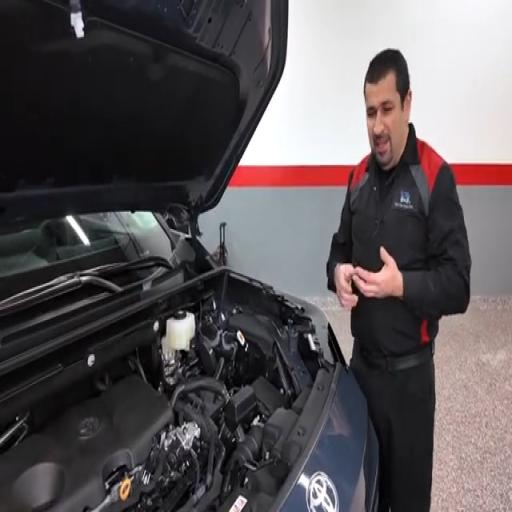bumper: (282, 370, 378, 511)
emblem: (307, 473, 339, 511)
hood: (0, 0, 287, 223)
window: (0, 212, 173, 280)
windshield: (0, 212, 173, 298)
